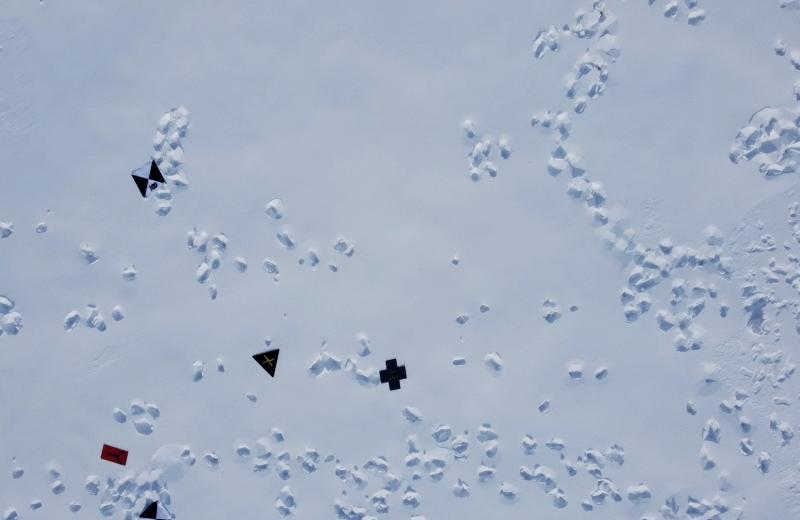Cross: (378, 358, 407, 393)
Rectangle: (99, 440, 129, 468)
Triangle: (250, 347, 284, 379)
